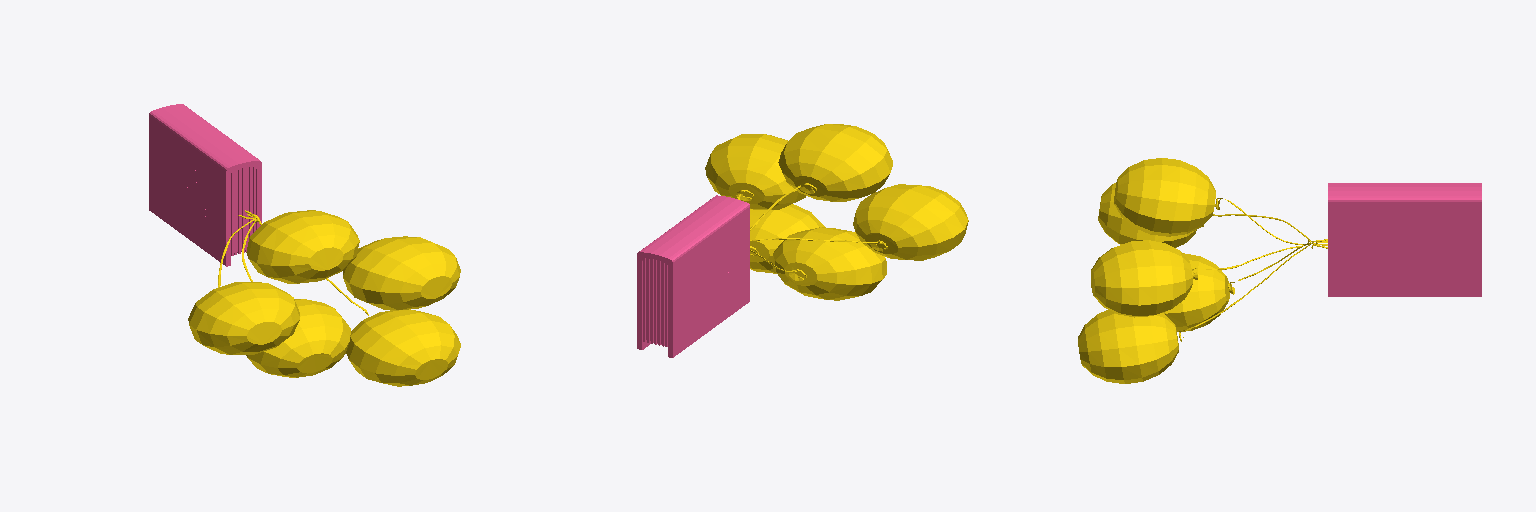
The model's file is tinker.obj.
3 renders of one model, left to right at view 1: azimuth 30°, elevation 25°; view 2: azimuth 150°, elevation 25°; view 3: azimuth 270°, elevation 25°, orthographic.
Parts seen in each view (by area): view 1: obj_0; view 2: obj_0; view 3: obj_0.
Part boxes in pixels (left/top/right/bottom): obj_0: left=149, top=104, right=460, bottom=386; obj_0: left=637, top=124, right=968, bottom=357; obj_0: left=1078, top=158, right=1481, bottom=383.
Size of the model in its own units: 65 by 41 by 88.95.